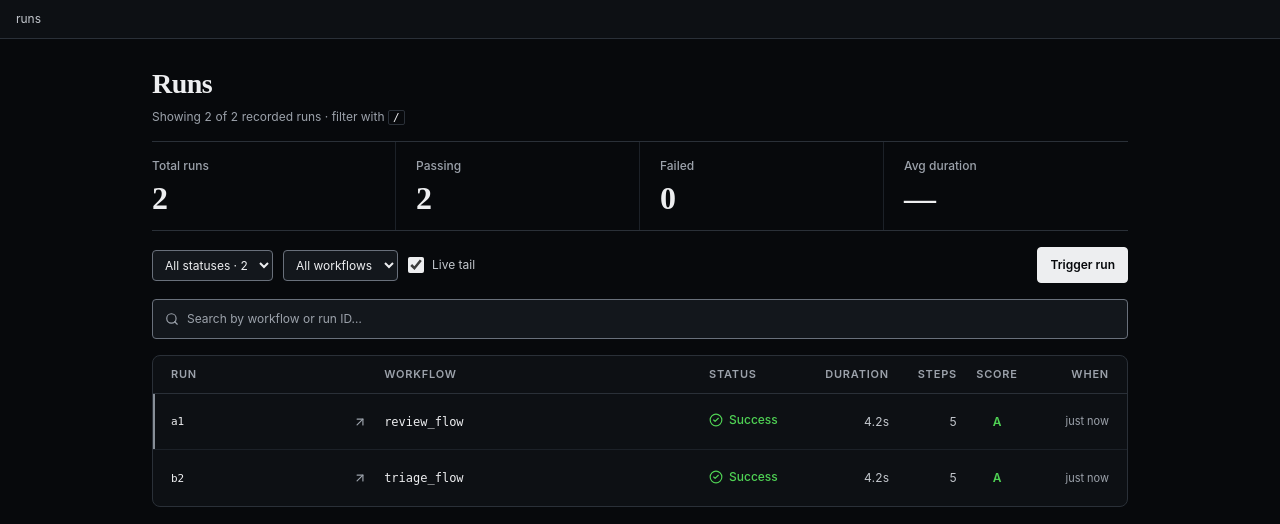
Scenario: RunsPage › filters rows with the workflow select (no invented CLI twin)
Select "triage_flow" in the dropdown named "Filter by workflow" at (340, 265), box [283, 250, 398, 280]
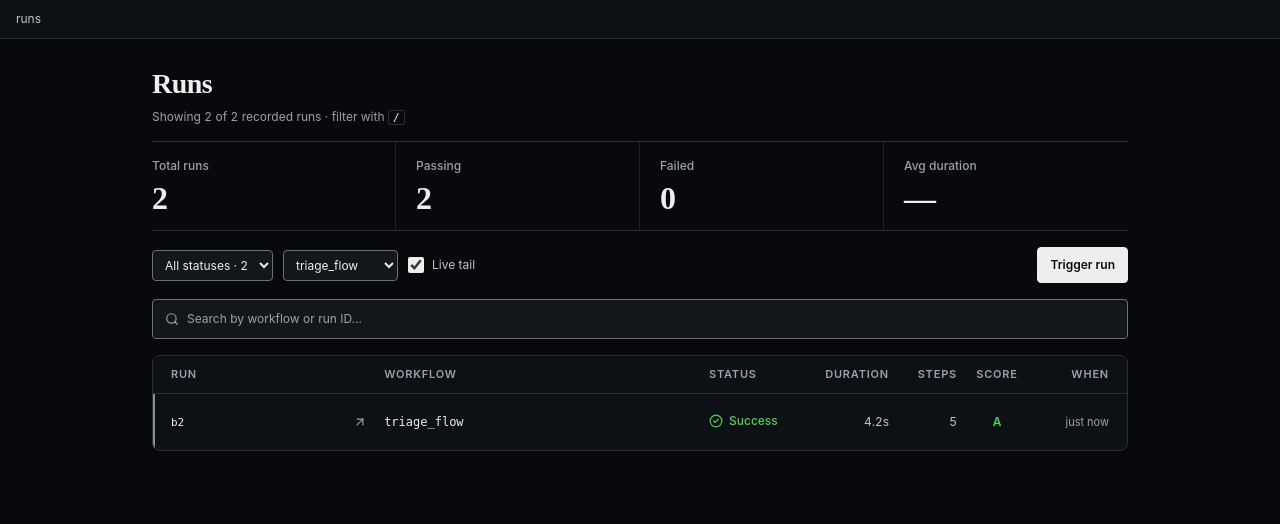
Expected: the link "triage_flow" is shown, [384, 414, 464, 430]
Result: the link "review_flow" is gone
